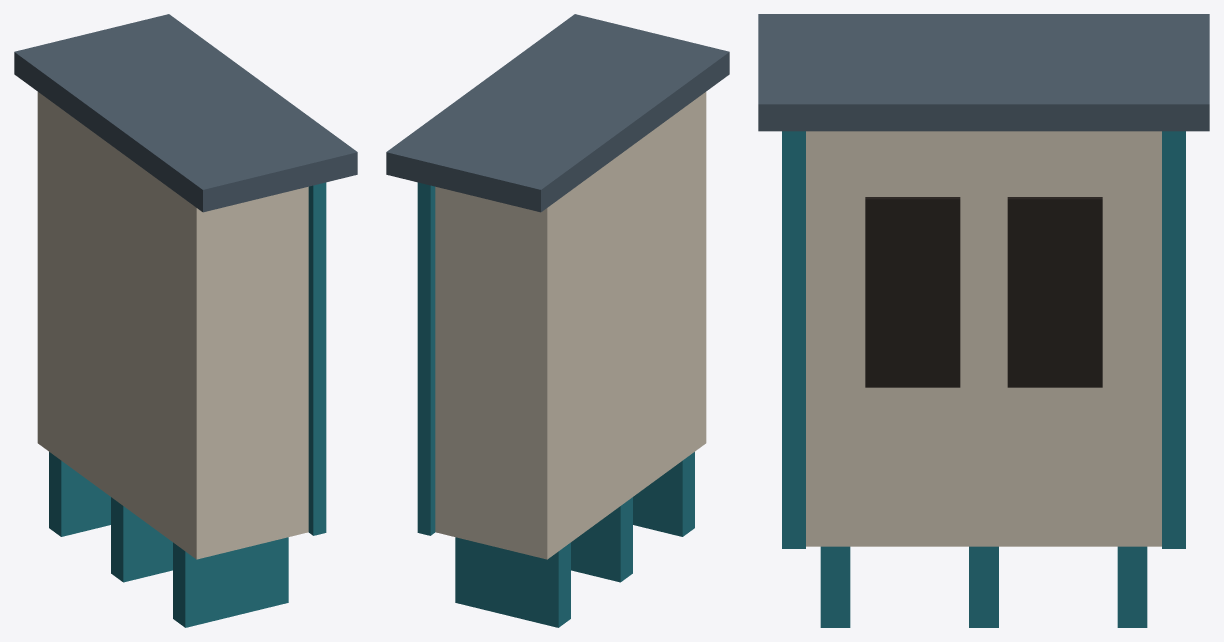
Rendered from bay-cumba.glb.
3 views of the same model, side by side, from view 1: azimuth 30°, elevation 25°; view 2: azimuth 150°, elevation 25°; view 3: azimuth 270°, elevation 25° (orthographic). The views are drawn at different scales.
Visible parts, largest first — view 1: bay-cumba; view 2: bay-cumba; view 3: bay-cumba.
Part boxes in pixels (x1,y1,x2,y2): bay-cumba: (14,14,357,627); bay-cumba: (386,14,729,627); bay-cumba: (758,14,1209,627).
Size of the model in its own units: 0.36 by 1.02 by 0.76.
